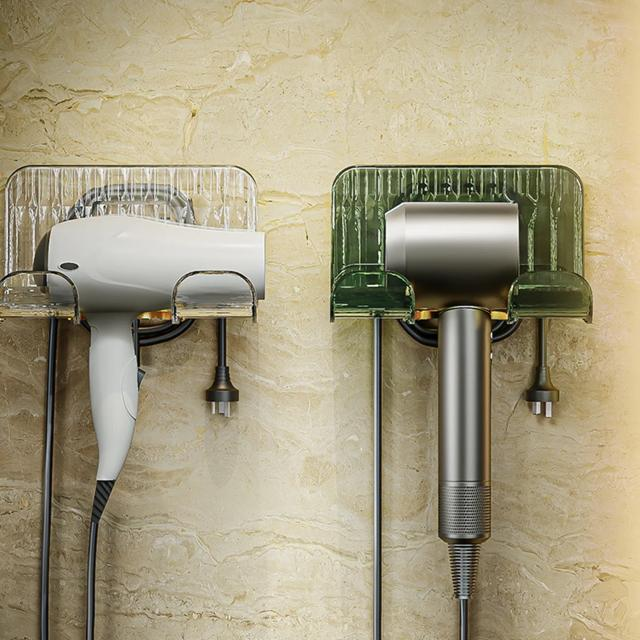dryer: (32, 196, 272, 637), (374, 185, 535, 624)
